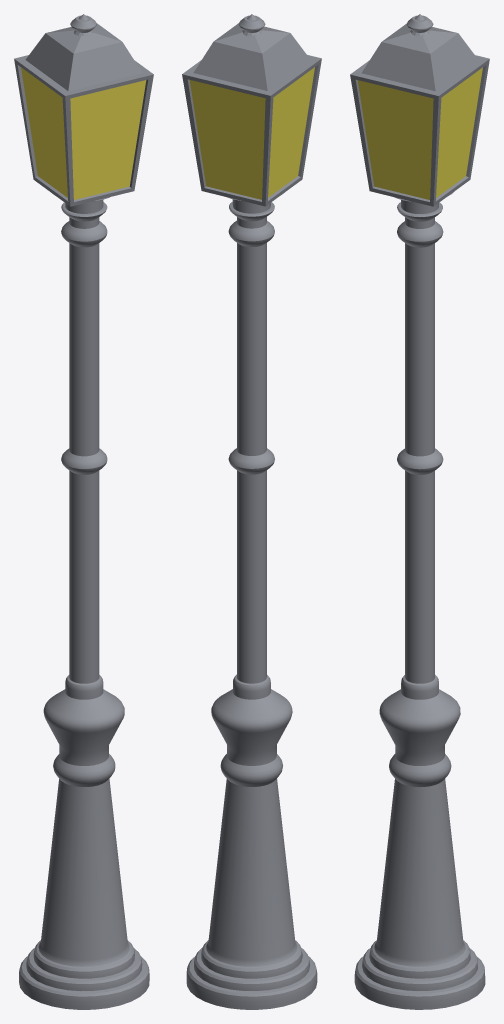
Rendered from P_lampadaire.fbx.
The picture shows the model from 3 angles, left to right: view 1: azimuth 30°, elevation 25°; view 2: azimuth 150°, elevation 25°; view 3: azimuth 330°, elevation 25°; orthographic projection.
Visible parts, largest first — view 1: Cylinder001; view 2: Cylinder001; view 3: Cylinder001.
Boxes of the visible parts, box(x1,y1,x2,y2) form: Cylinder001: box(14, 14, 153, 1009); Cylinder001: box(182, 14, 321, 1009); Cylinder001: box(350, 14, 489, 1009).
Size of the model in its own units: 20.08 by 164 by 20.11.
